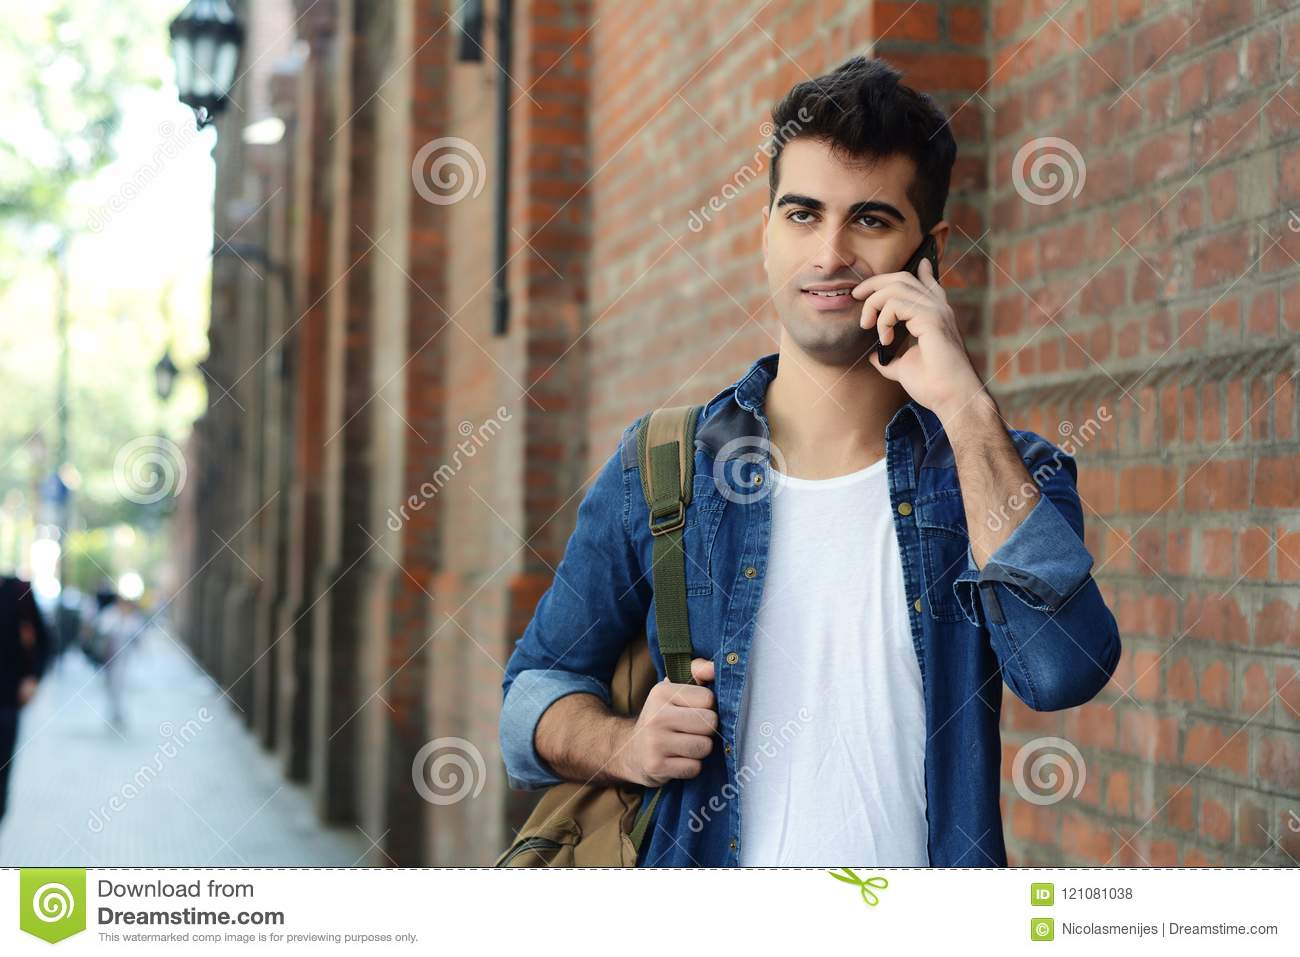phone: (873, 234, 947, 375)
talk: (770, 182, 972, 417)
